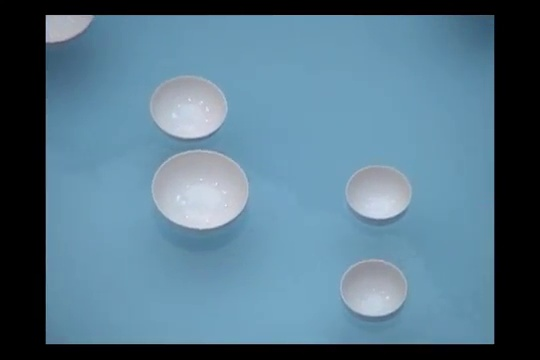bowl: (150, 149, 249, 237), (148, 74, 228, 143), (339, 259, 408, 324), (345, 166, 412, 227), (46, 15, 93, 46)
